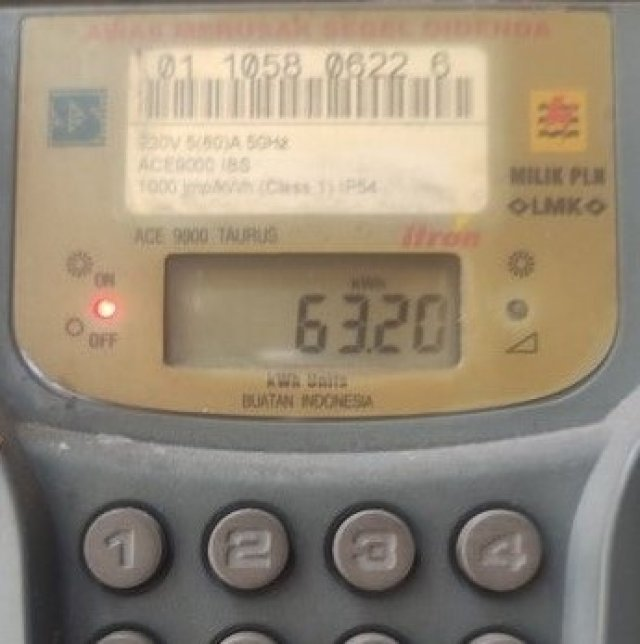box: (166, 252, 463, 370)
